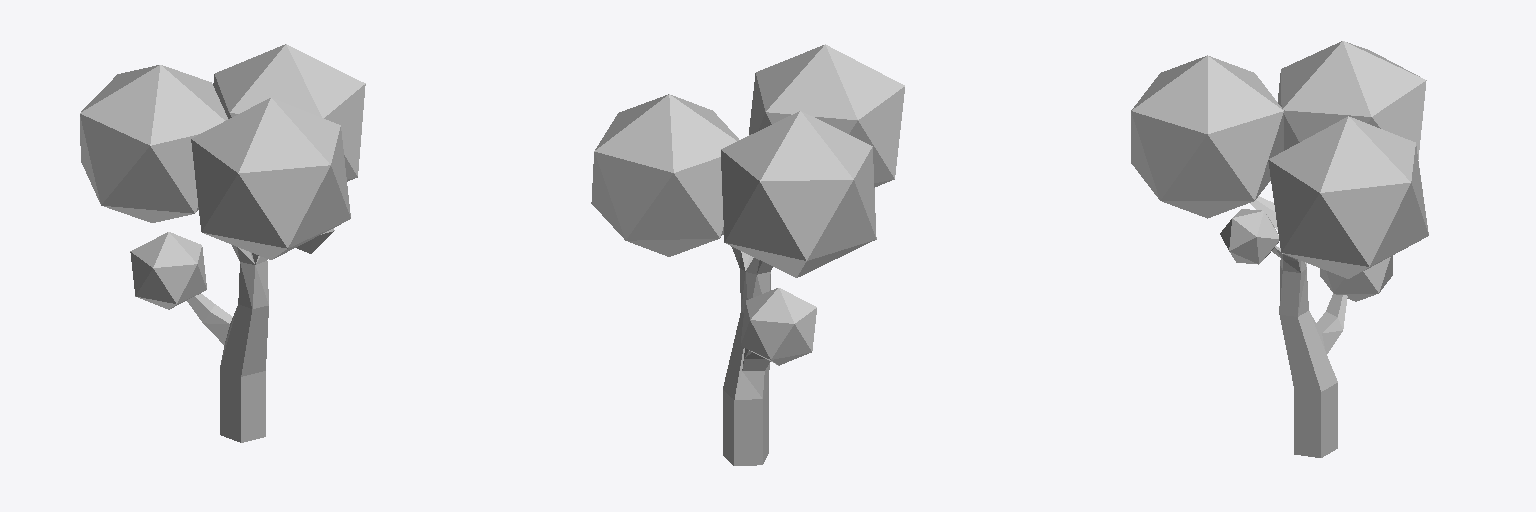
The model's file is tree.obj.
3 views of the same model, side by side, from view 1: azimuth 30°, elevation 25°; view 2: azimuth 150°, elevation 25°; view 3: azimuth 270°, elevation 25° (orthographic).
Bounding box in the file's own units: 6.25 × 8.62 × 6.12.